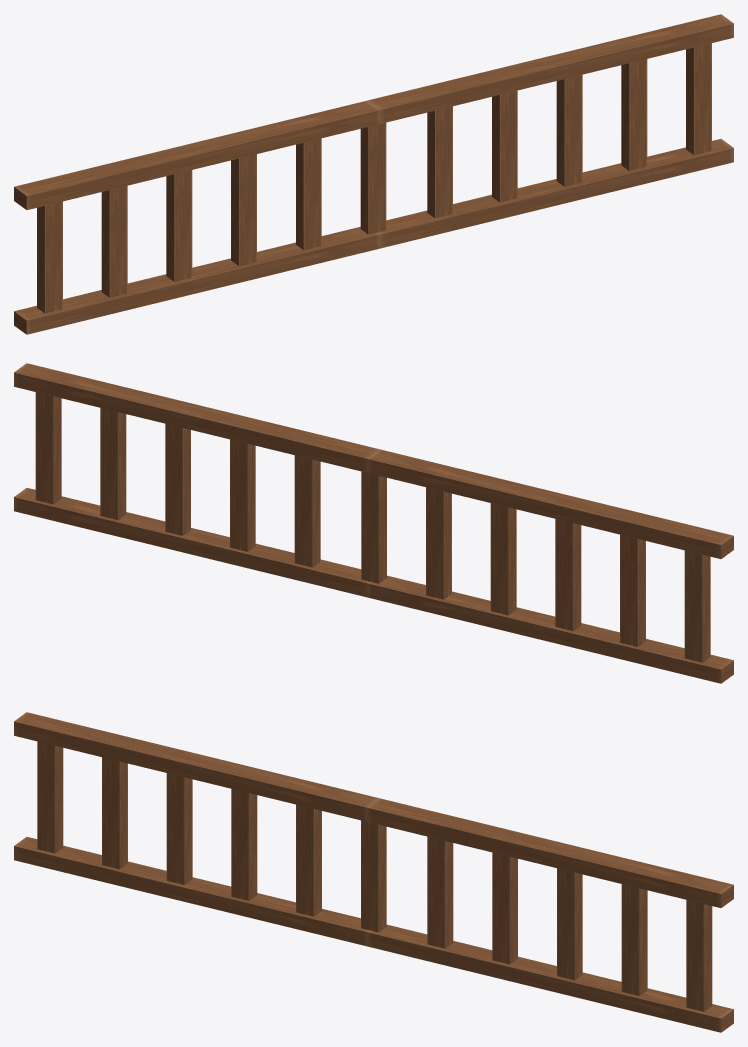
The model's file is sm_building_weilan03_01.fbx.
3 views of the same model, one above another, from view 1: azimuth 30°, elevation 25°; view 2: azimuth 150°, elevation 25°; view 3: azimuth 330°, elevation 25° (orthographic).
Parts seen in each view (by area): view 1: WB1_Fence_W2D32H4__1__7_001, WB1_Fence_W2D32H4__1__7_002, window_002, window_003; view 2: WB1_Fence_W2D32H4__1__7_001, WB1_Fence_W2D32H4__1__7_002, window_002, window_003; view 3: WB1_Fence_W2D32H4__1__7_002, WB1_Fence_W2D32H4__1__7_001, window_002, window_003.
Boxes of the visible parts, <box> form: WB1_Fence_W2D32H4__1__7_001: <box>14,100,380,334</box>; WB1_Fence_W2D32H4__1__7_002: <box>368,14,733,248</box>; window_002: <box>37,122,386,313</box>; window_003: <box>427,43,711,218</box>; WB1_Fence_W2D32H4__1__7_001: <box>367,449,733,683</box>; WB1_Fence_W2D32H4__1__7_002: <box>14,363,379,597</box>; window_002: <box>361,471,710,662</box>; window_003: <box>35,392,320,567</box>; WB1_Fence_W2D32H4__1__7_002: <box>367,798,733,1032</box>; WB1_Fence_W2D32H4__1__7_001: <box>14,712,379,946</box>; window_002: <box>37,741,386,932</box>; window_003: <box>427,836,712,1011</box>.
Bounding box in the file's own units: 512 × 96 × 16.
1 material, 1 textured.
